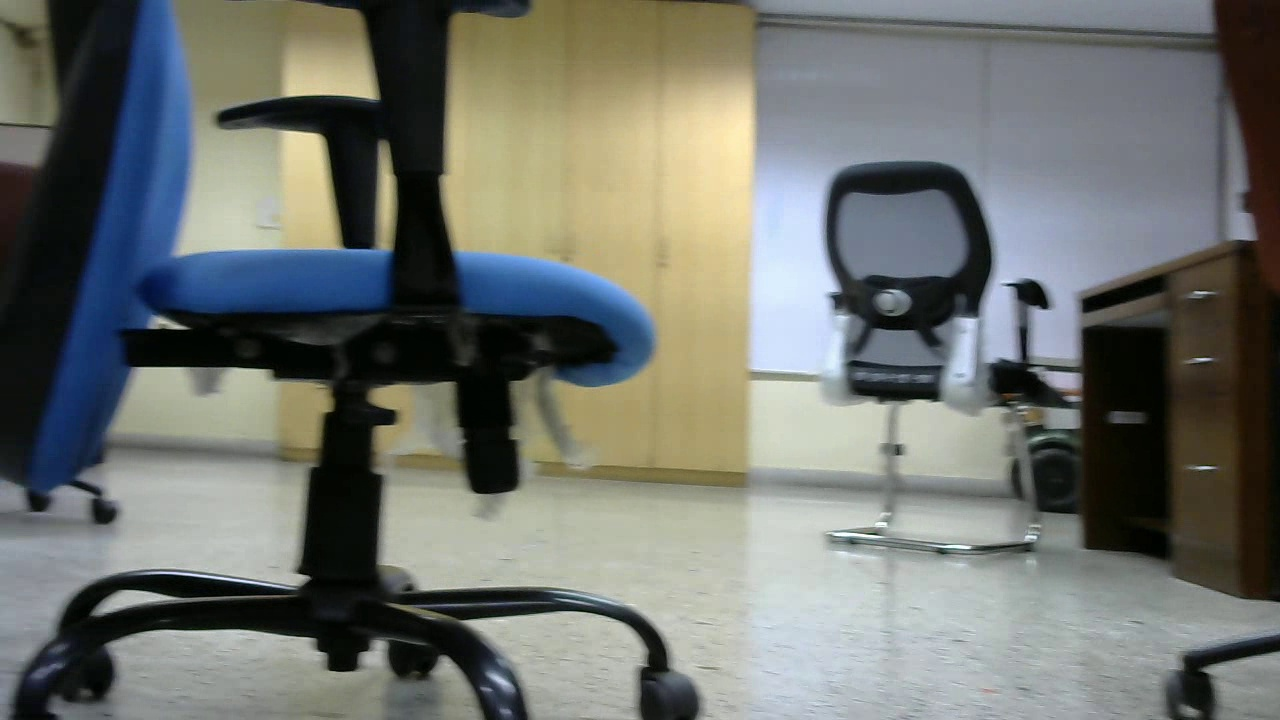chair: (1, 2, 709, 720), (787, 156, 1058, 554)
